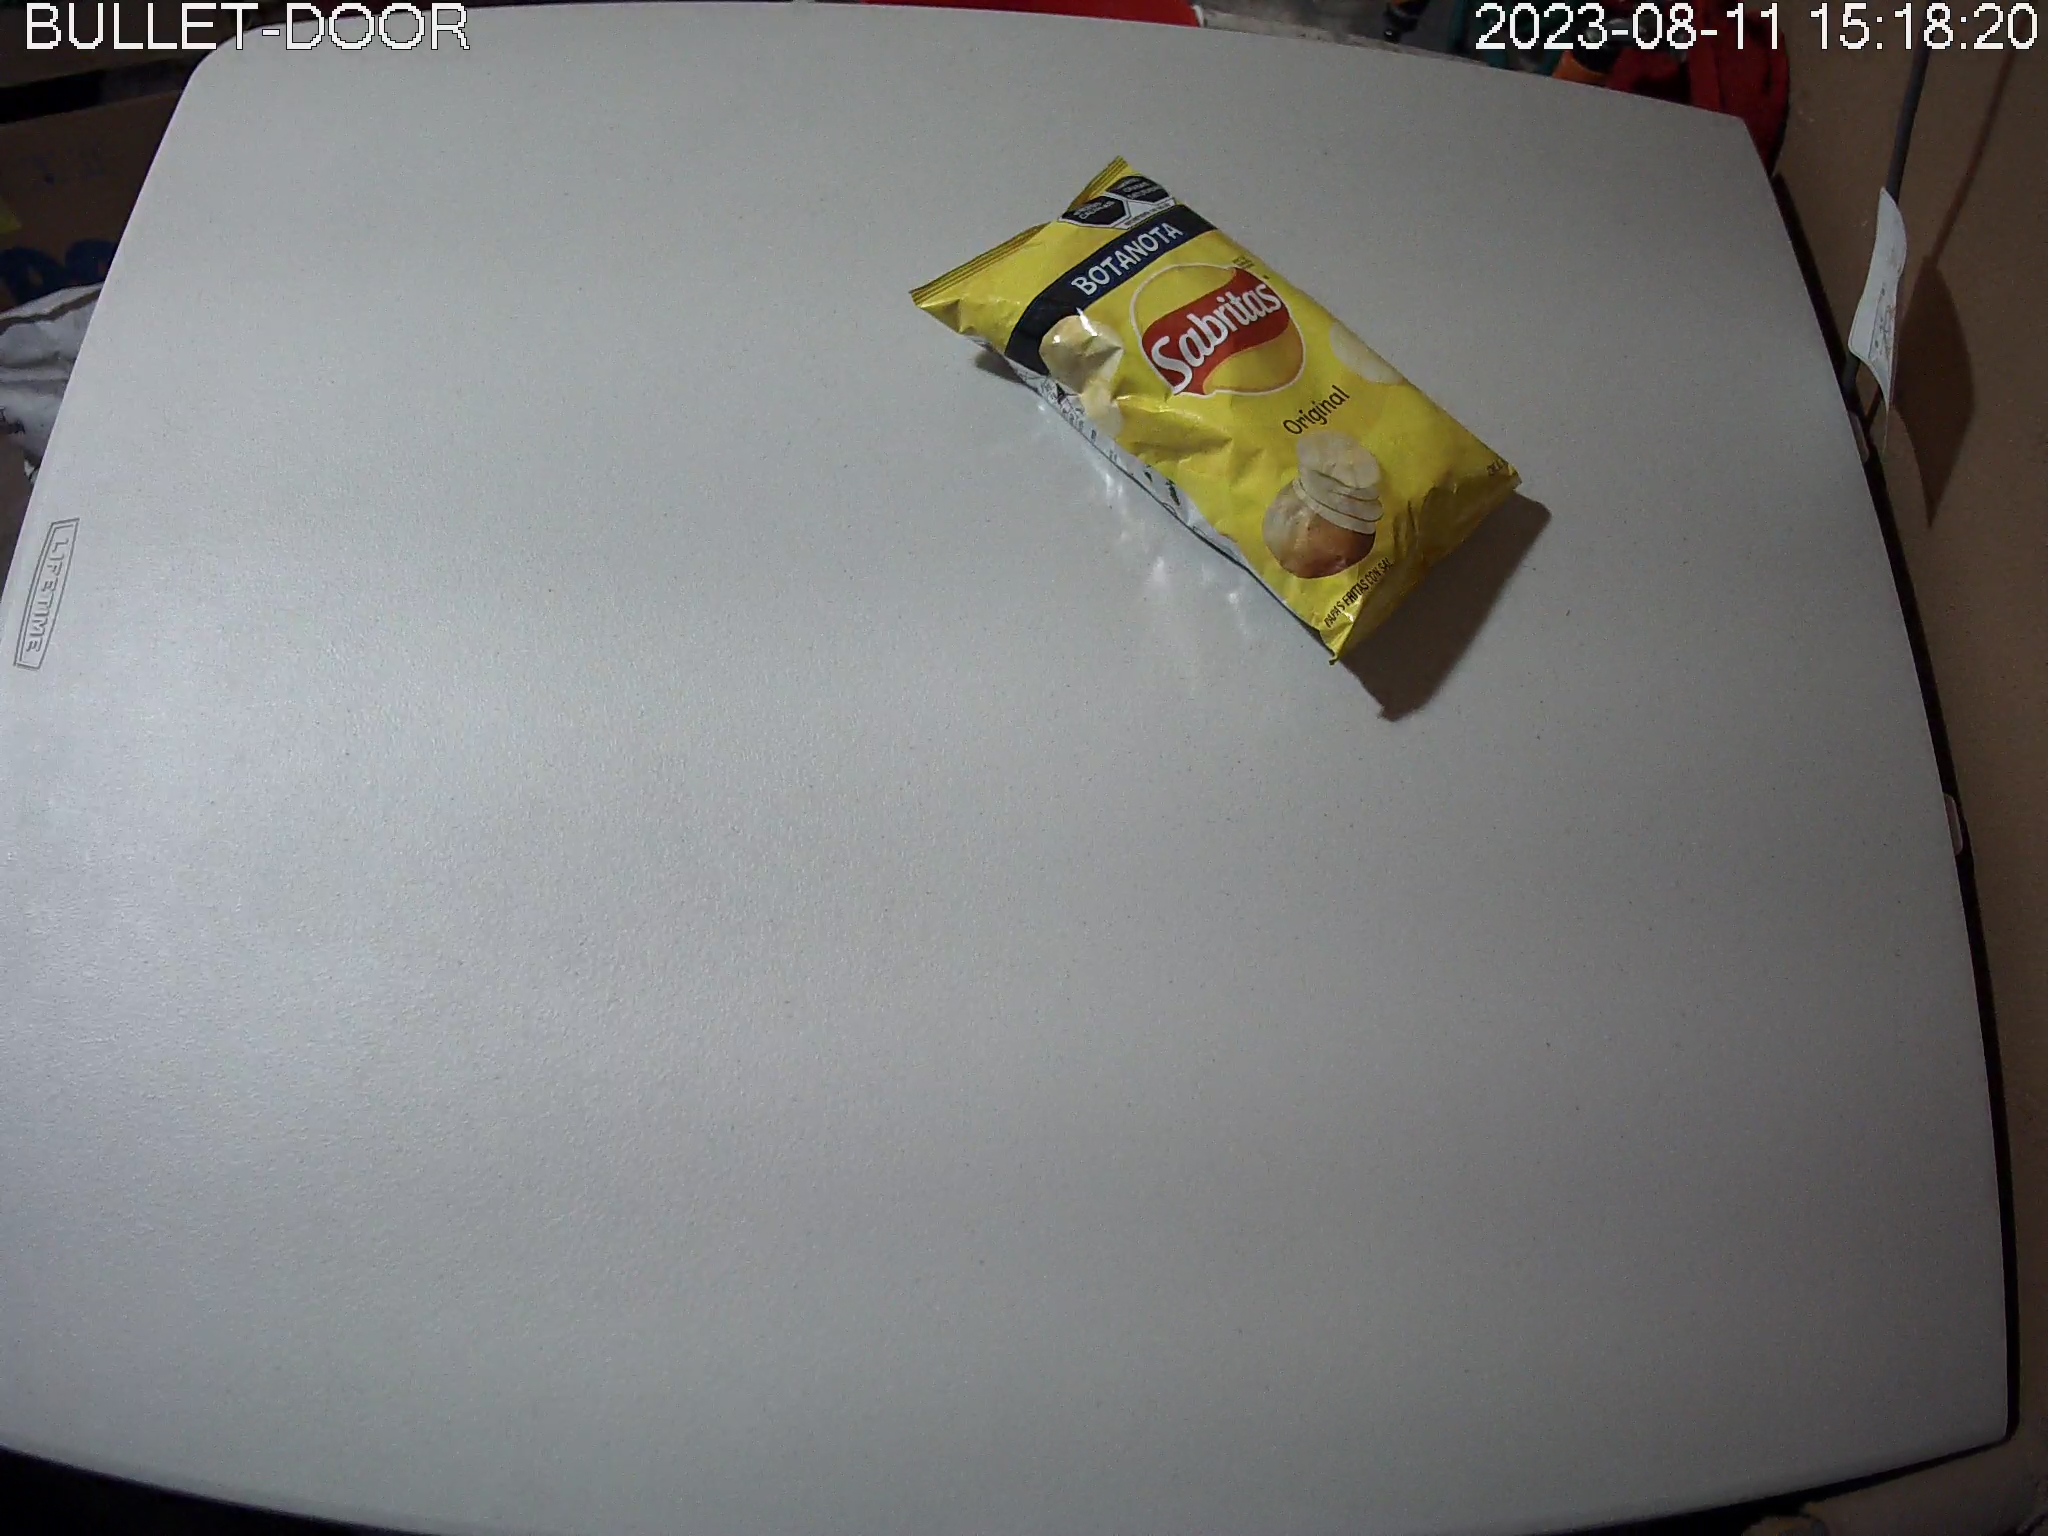Sabritas_64_F: (913, 157, 1524, 670)
